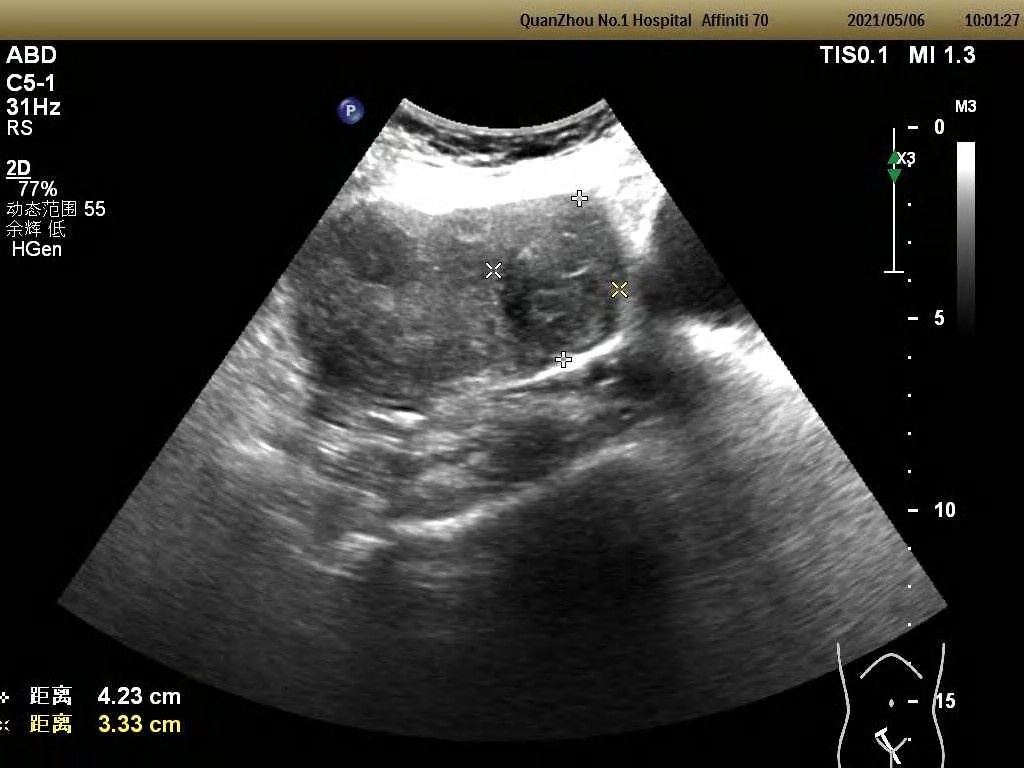肌瘤: (492, 199, 622, 362)
